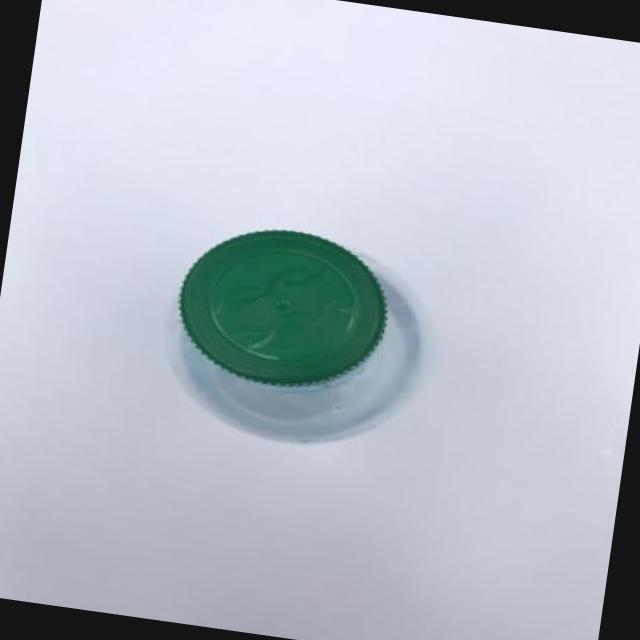bottle: (167, 231, 421, 443)
plastic: (167, 259, 423, 443), (179, 231, 385, 385)
